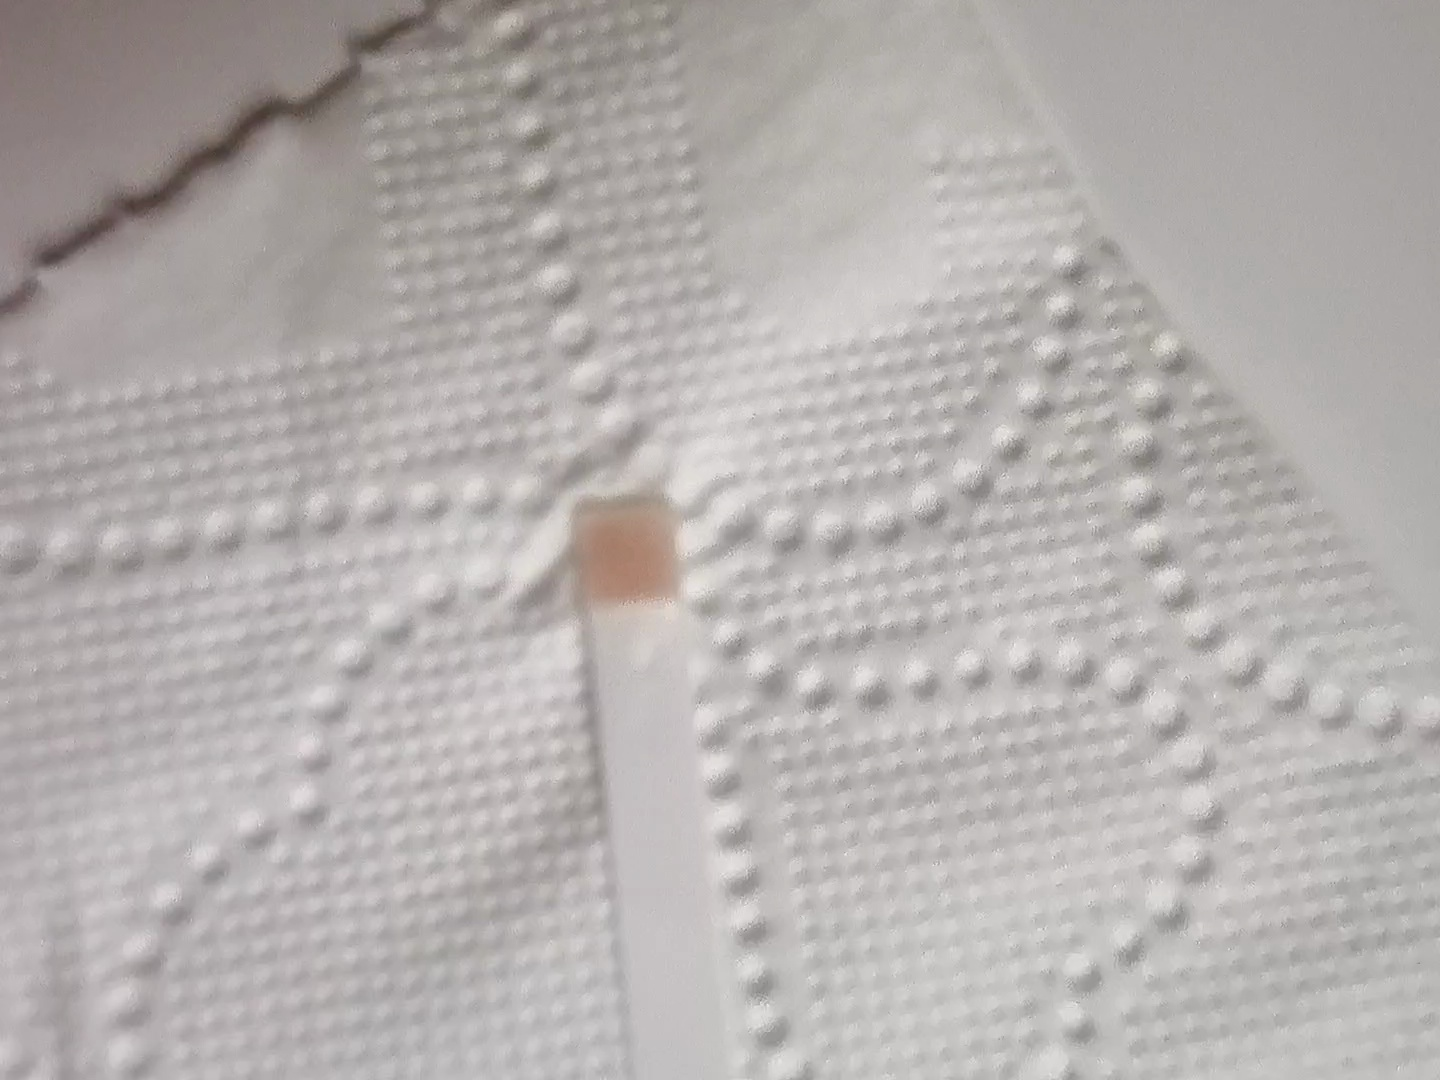keto-tip: (562, 490, 691, 611)
